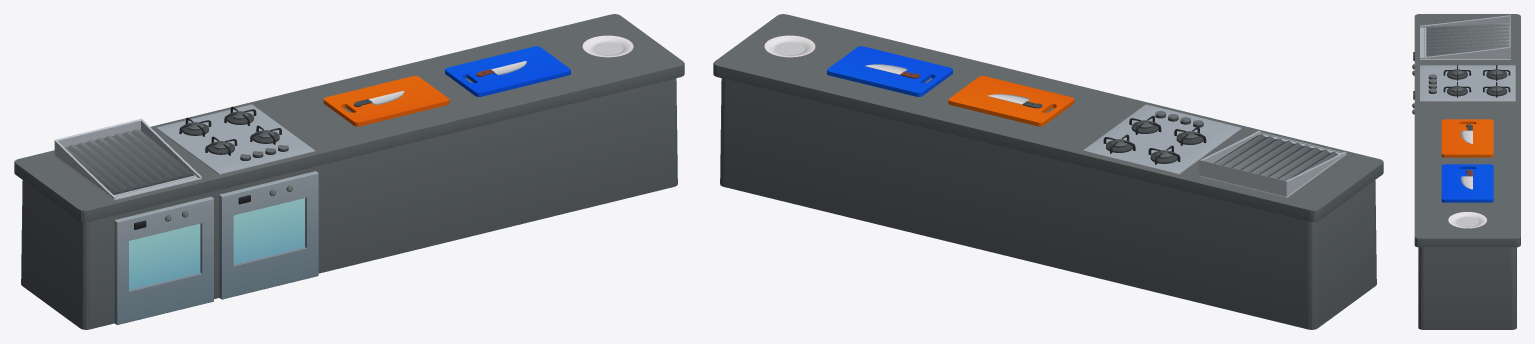
Rendered from Kitchen_Desk.fbx.
3 renders of one model, left to right at view 1: azimuth 30°, elevation 25°; view 2: azimuth 150°, elevation 25°; view 3: azimuth 270°, elevation 25°, orthographic. The views are drawn at different scales.
Parts seen in each view (by area): view 1: Desk, Oven, Oven.001, Grill, Stove, Cutting_Table.001, Cutting_Table, Plate.001; view 2: Desk, Stove, Grill, Cutting_Table.001, Cutting_Table, Plate.001; view 3: Desk, Grill, Stove, Cutting_Table, Cutting_Table.001, Plate.001, Knife, Knife.001.
Part boxes in pixels (x1,y1,x2,y2): Desk: [14, 14, 684, 329]; Oven: [219, 171, 318, 299]; Oven.001: [114, 196, 213, 324]; Grill: [54, 118, 201, 200]; Stove: [156, 104, 314, 174]; Cutting_Table.001: [323, 76, 449, 126]; Cutting_Table: [445, 46, 570, 96]; Plate.001: [582, 35, 633, 57]; Desk: [713, 14, 1383, 329]; Stove: [1083, 104, 1241, 174]; Grill: [1198, 131, 1346, 197]; Cutting_Table.001: [948, 76, 1074, 126]; Cutting_Table: [827, 46, 952, 96]; Plate.001: [764, 35, 815, 57]; Desk: [1414, 14, 1520, 329]; Grill: [1420, 14, 1510, 59]; Stove: [1420, 65, 1515, 101]; Cutting_Table: [1441, 164, 1493, 202]; Cutting_Table.001: [1441, 119, 1493, 157]; Plate.001: [1448, 212, 1486, 228]; Knife: [1460, 124, 1472, 144]; Knife.001: [1460, 170, 1472, 189].
Size of the model in its own units: 8000 by 1756 by 1636.
Materials: 1 (1 with a texture image).
